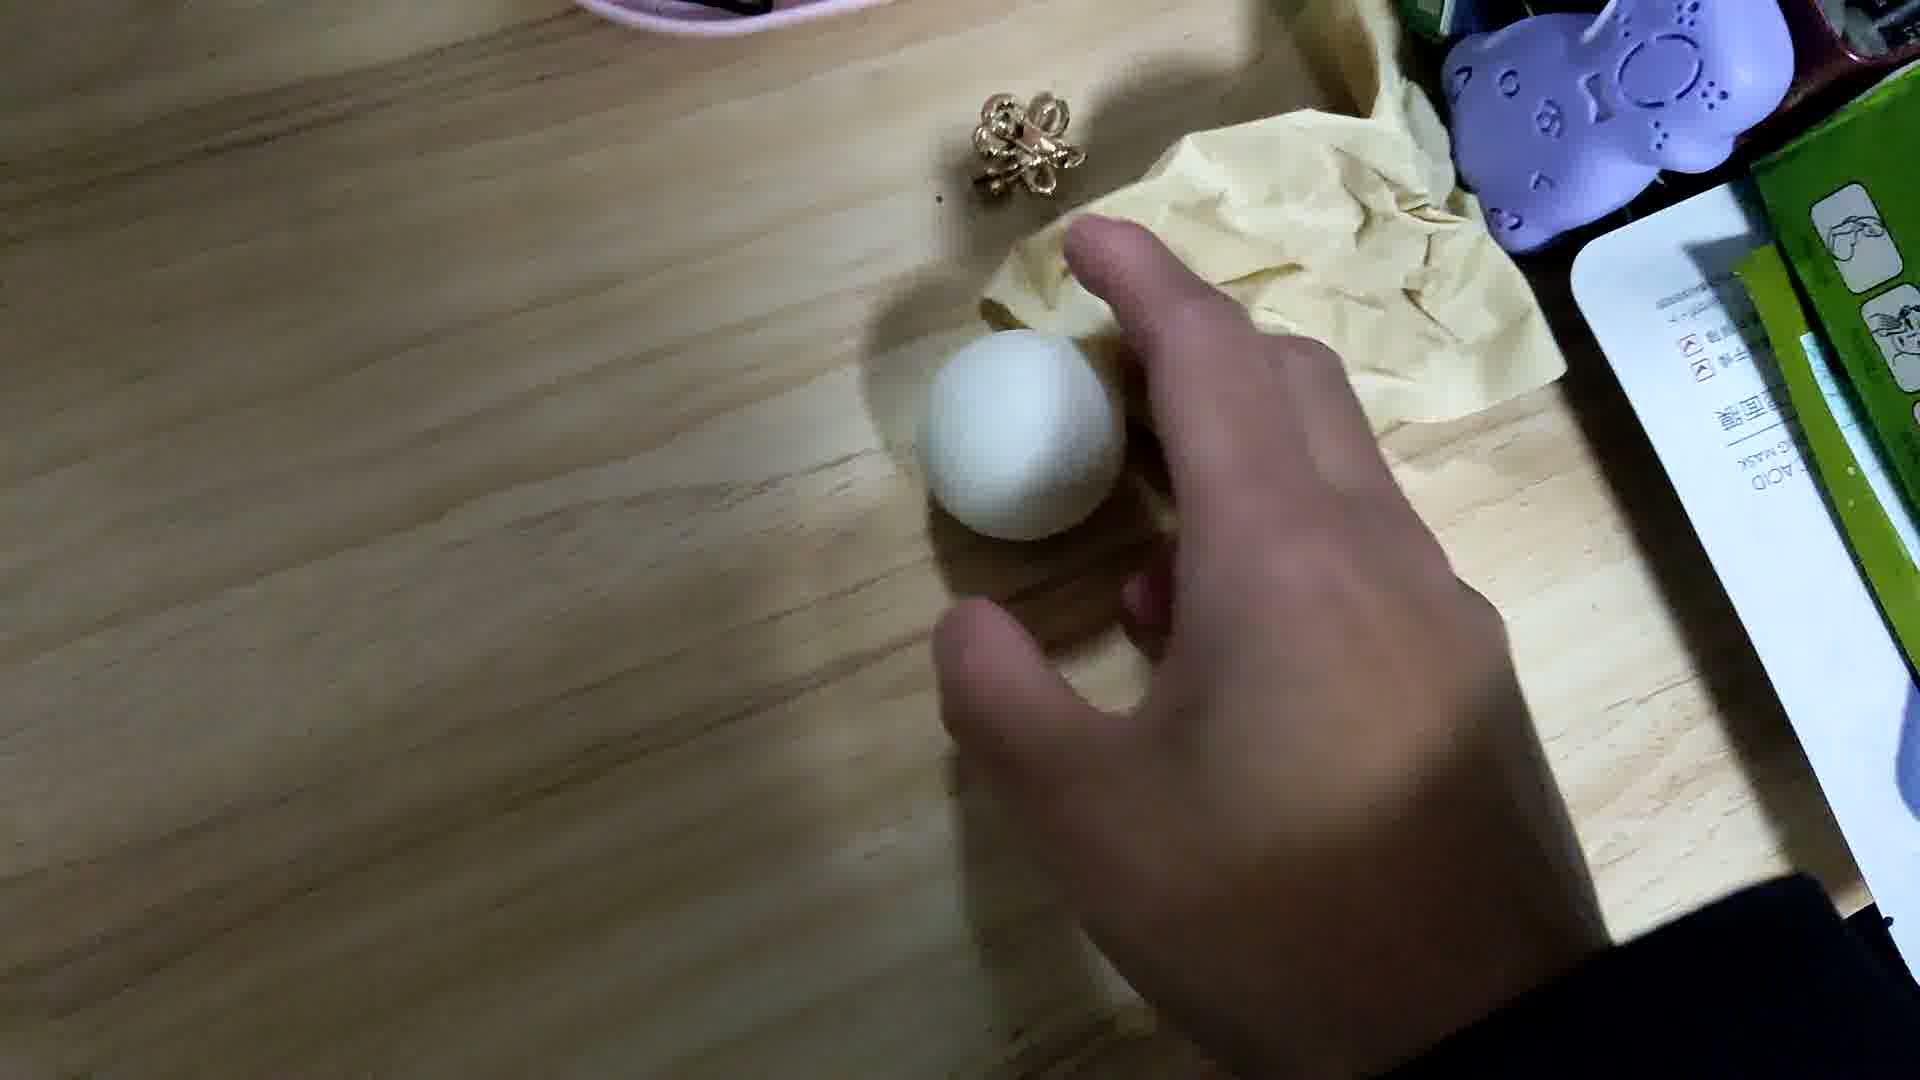Ball: (920, 328, 1120, 541)
